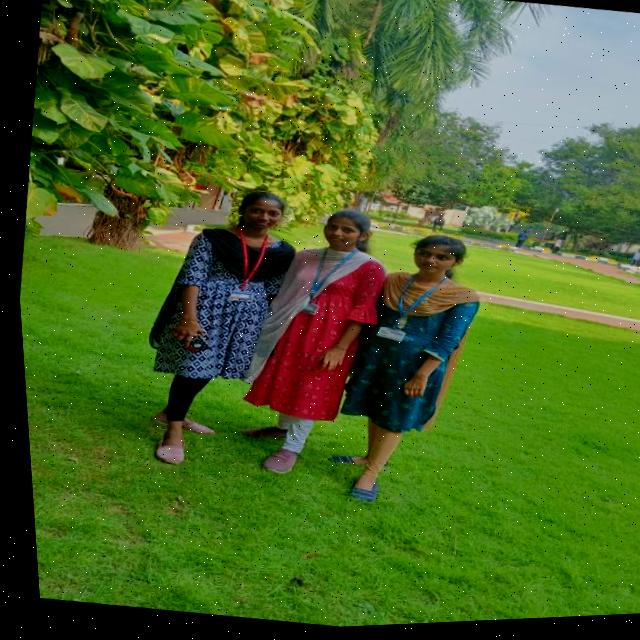id_card: (374, 273, 427, 354), (220, 223, 263, 316), (291, 246, 341, 321)
